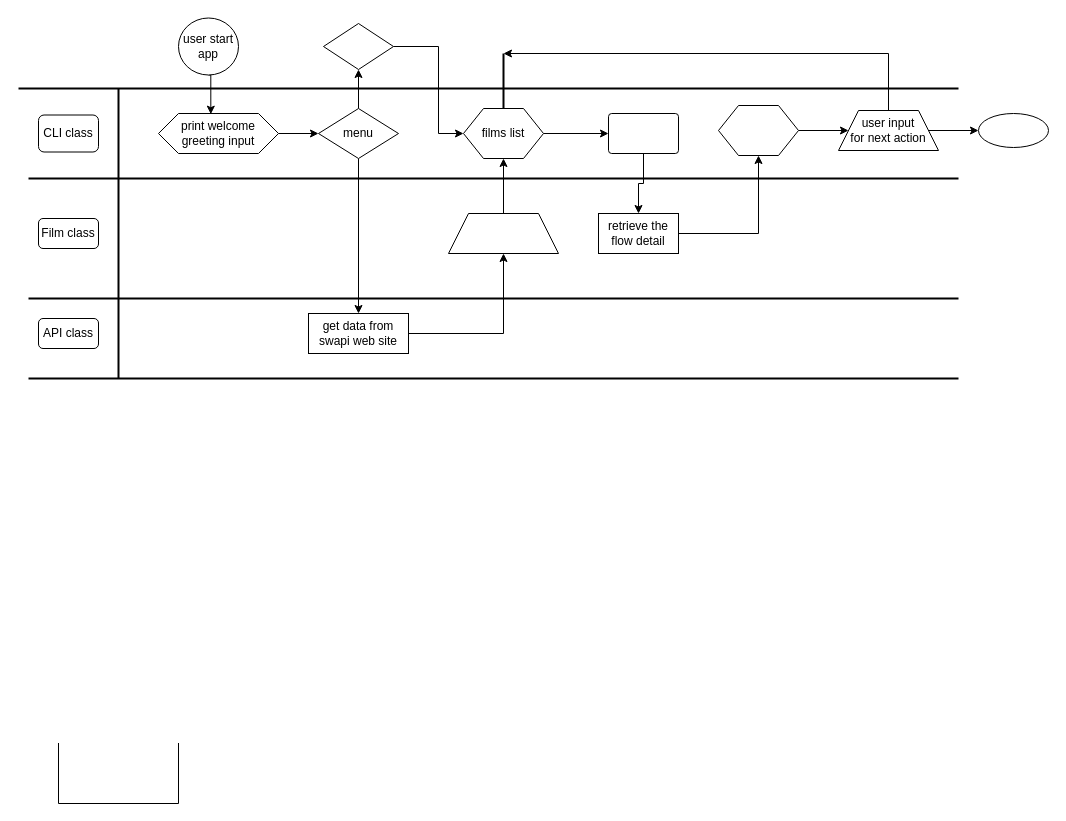
The diagram is 1066 pixels wide and 821 high, and some of its shapes have lost their labels. Here are the shapes that lost their labels. From the top down, the centre of each, then its label:
the point at 358,46: user decides
the point at 643,133: film details
the point at 758,130: print the detail
the point at 1013,130: program exit
the point at 503,233: film selection objects are created & stored
